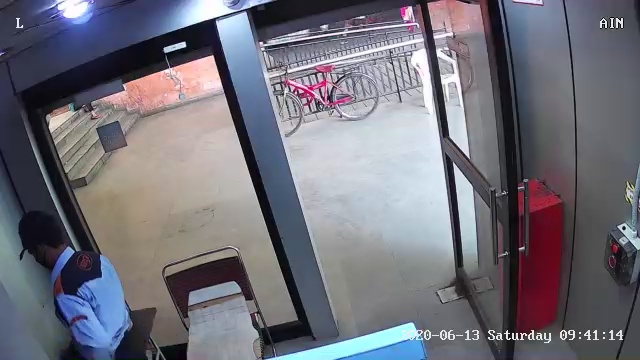open: (201, 4, 537, 357)
